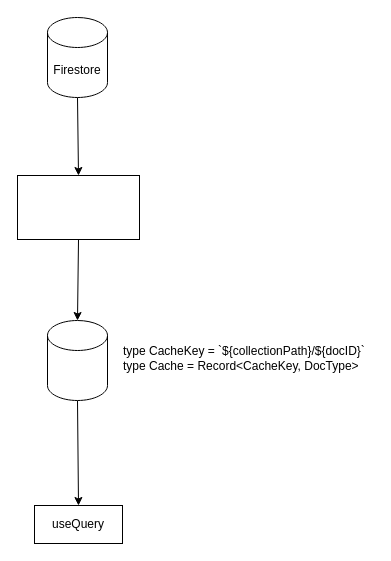
Image size: 391x561. Some labels were removed from this diagram. The shapes that lost their labels are listed below. From the top down, each one's centre as x and y in pixels, then its label:
(78,207): onSnapshot docs modified after lastSyncTime
(77,360): Cache
